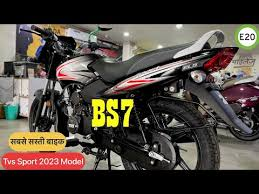motorcycle: (25, 26, 230, 194), (214, 73, 259, 137)
